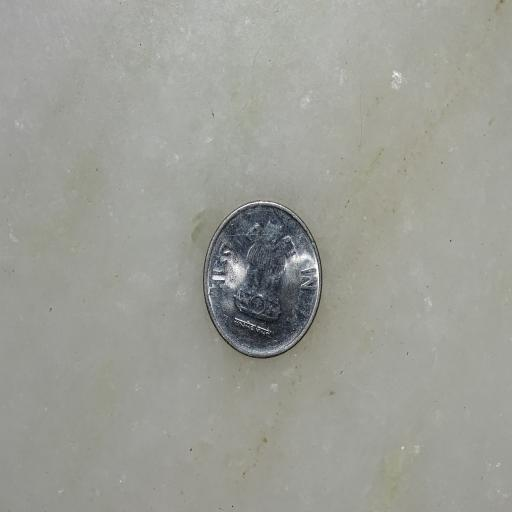rupee2: (202, 197, 324, 362)
